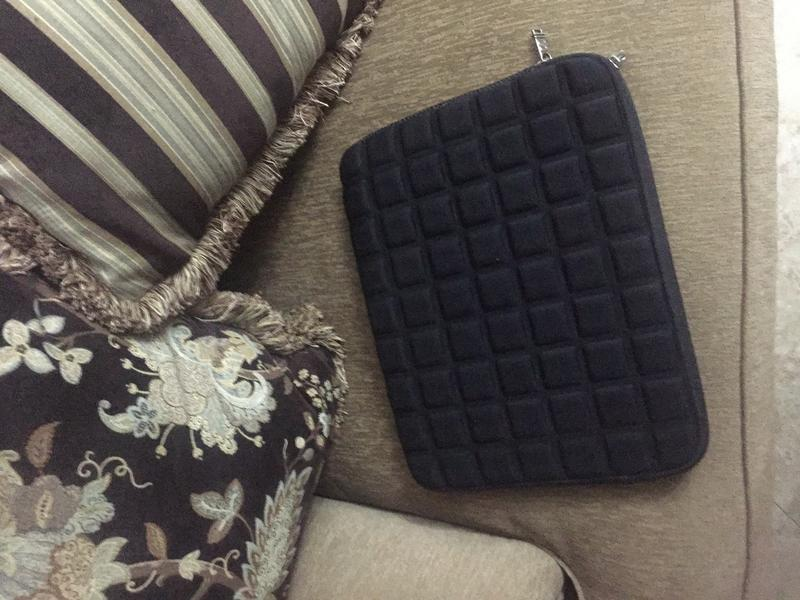cover: (338, 28, 713, 514)
